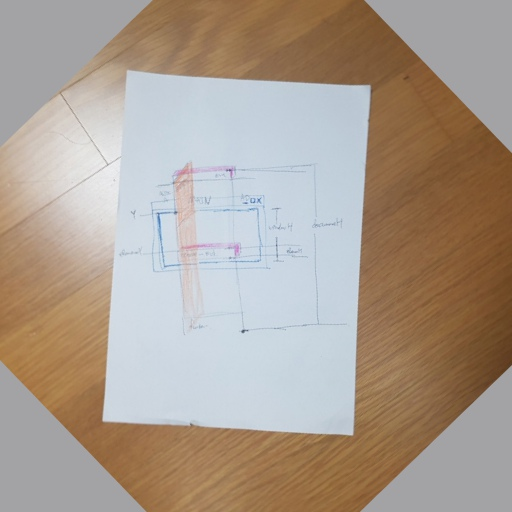Paper_2: (94, 63, 380, 442)
